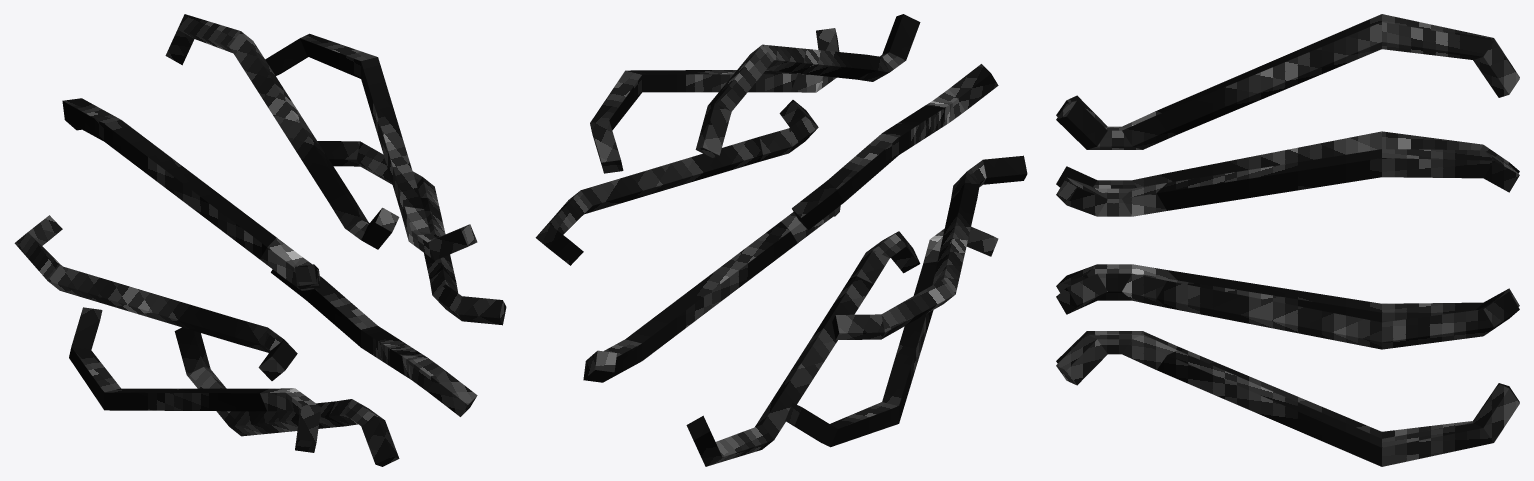
Rendered from sprite_arms.obj.
3 views of the same model, side by side, from view 1: azimuth 30°, elevation 25°; view 2: azimuth 150°, elevation 25°; view 3: azimuth 270°, elevation 25° (orthographic). The views are drawn at different scales.
Visible parts, largest first — view 1: Torus.002; view 2: Torus.002; view 3: Torus.002.
Part boxes in pixels (<box>): Torus.002: <box>14,14,506,466</box>; Torus.002: <box>535,14,1027,466</box>; Torus.002: <box>1056,14,1519,466</box>.
Bounding box in the file's own units: 3.22 × 3.22 × 3.1.
